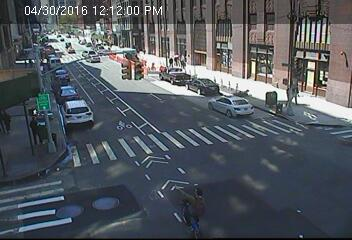neg: (170, 177, 216, 238), (14, 85, 35, 114), (335, 47, 351, 71), (58, 36, 74, 57)
pos: (20, 115, 44, 146)
